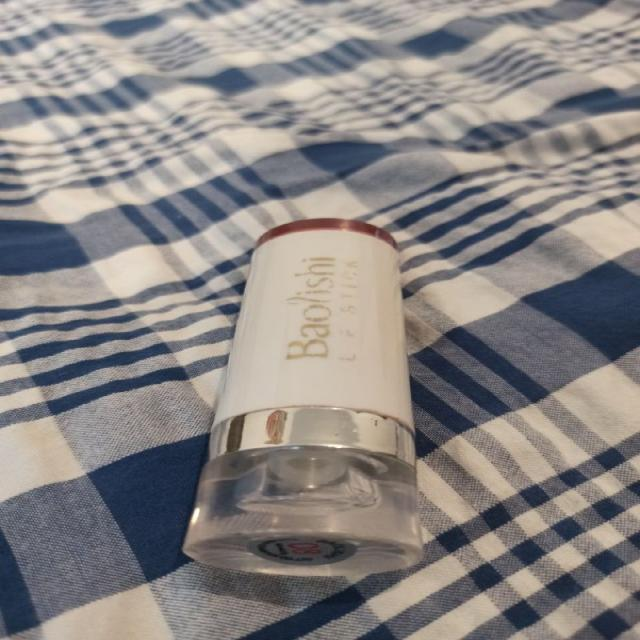lipstick: (180, 217, 423, 578)
